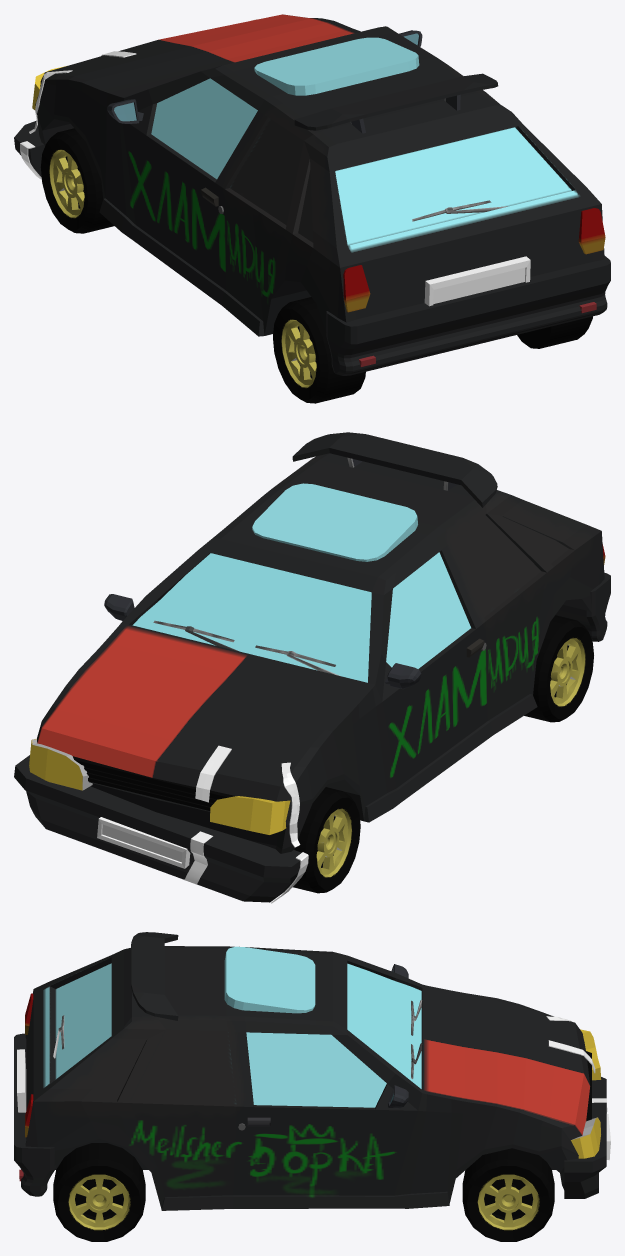
File: HlamidiaModelWithTextures.fbx
3 views of the same model, one above another, from view 1: azimuth 30°, elevation 25°; view 2: azimuth 150°, elevation 25°; view 3: azimuth 270°, elevation 25° (orthographic). The views are drawn at different scales.
Parts seen in each view (by area): view 1: Base, Cube.018, Glass, Sunroof, Wheel.002, Wheel.003, Spoiler, Number Frame, BackLights, Wheel, Rear view mirrors, Cube.020; view 2: Base, Glass, Cube.020, Sunroof, Spoiler, Wheel.002, Wheel.003, Lights, Radiator, Number Frame.001, Cube.018, Rear view mirrors (+4 smaller); view 3: Base, Glass, Wheel, Wheel.001, Sunroof, Spoiler, Cube.018, Cube.020, Lights, Number Frame, Dvorniki, Rear view mirrors.
Part boxes in pixels (x1=…): Base: x1=35, y1=14, x2=604, y2=336; Cube.018: x1=326, y1=256, x2=610, y2=375; Glass: x1=151, y1=78, x2=313, y2=242; Sunroof: x1=254, y1=37, x2=419, y2=95; Wheel.002: x1=273, y1=297, x2=365, y2=403; Wheel.003: x1=40, y1=128, x2=113, y2=233; Spoiler: x1=294, y1=73, x2=498, y2=133; Number Frame: x1=424, y1=256, x2=530, y2=306; BackLights: x1=343, y1=208, x2=605, y2=312; Wheel: x1=517, y1=316, x2=592, y2=348; Rear view mirrors: x1=107, y1=30, x2=422, y2=123; Cube.020: x1=14, y1=121, x2=44, y2=176; Base: x1=37, y1=453, x2=604, y2=853; Glass: x1=132, y1=515, x2=568, y2=682; Cube.020: x1=14, y1=755, x2=301, y2=902; Sunroof: x1=252, y1=483, x2=417, y2=561; Spoiler: x1=292, y1=432, x2=497, y2=507; Wheel.002: x1=524, y1=615, x2=593, y2=722; Wheel.003: x1=293, y1=787, x2=360, y2=893; Lights: x1=29, y1=738, x2=290, y2=834; Radiator: x1=73, y1=756, x2=236, y2=810; Number Frame.001: x1=97, y1=817, x2=190, y2=868; Cube.018: x1=555, y1=572, x2=610, y2=641; Rear view mirrors: x1=104, y1=594, x2=421, y2=689; Base: x1=25, y1=946, x2=590, y2=1210; Glass: x1=83, y1=963, x2=421, y2=1107; Wheel: x1=53, y1=1143, x2=145, y2=1241; Wheel.001: x1=462, y1=1148, x2=554, y2=1241; Sunroof: x1=224, y1=946, x2=315, y2=1013; Spoiler: x1=131, y1=932, x2=178, y2=1020; Cube.018: x1=14, y1=1033, x2=56, y2=1196; Cube.020: x1=564, y1=1077, x2=606, y2=1198; Lights: x1=571, y1=1029, x2=601, y2=1158; Number Frame: x1=17, y1=1049, x2=26, y2=1112; Dvorniki: x1=53, y1=1000, x2=422, y2=1079; Rear view mirrors: x1=388, y1=964, x2=408, y2=1108.
Size of the model in its own units: 2.08 by 3.93 by 1.62.
Materials: 2 (2 with a texture image).
